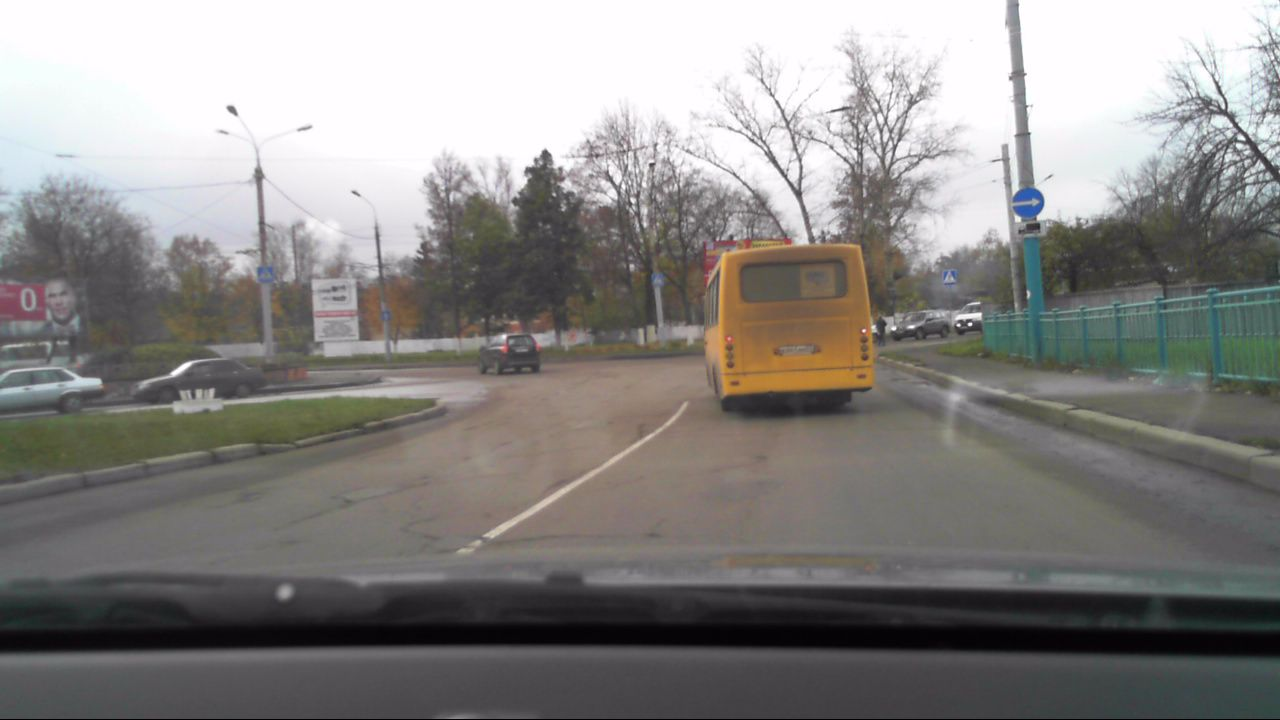Turn Right: (1011, 187, 1045, 218)
